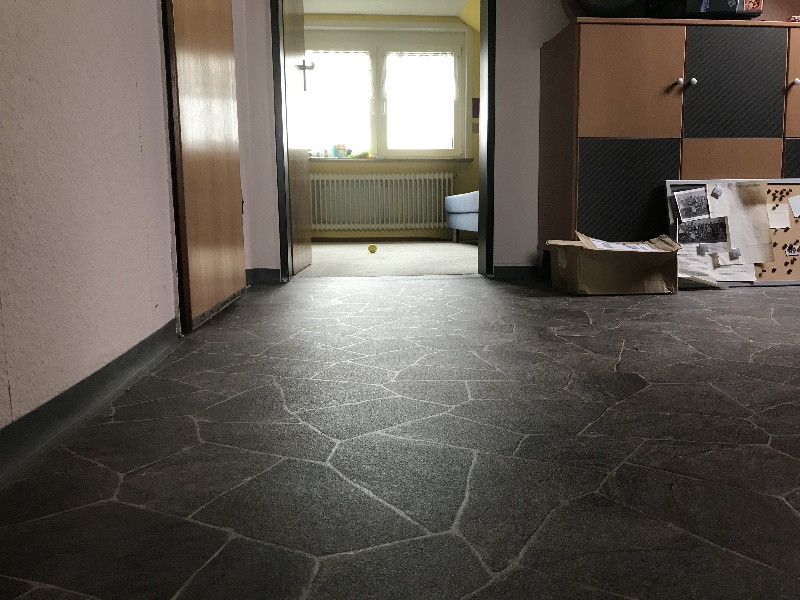Tennisball: (364, 238, 381, 256)
